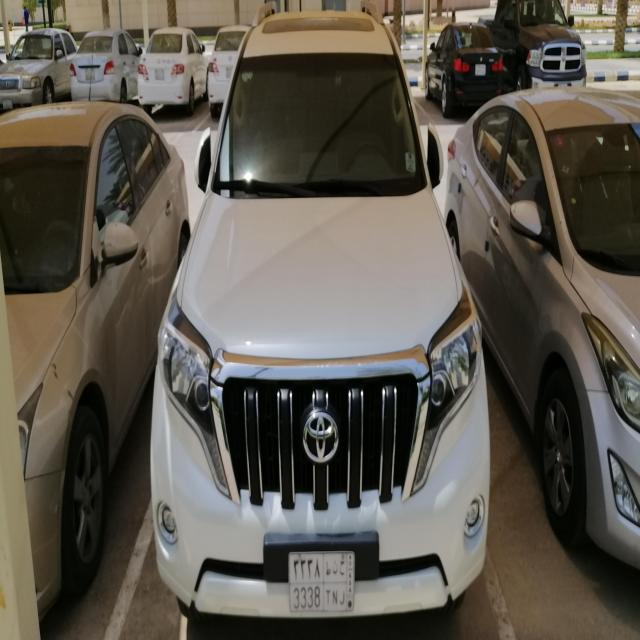license_plate: (287, 550, 355, 617), (475, 63, 486, 76), (154, 68, 164, 81), (85, 68, 95, 79)
